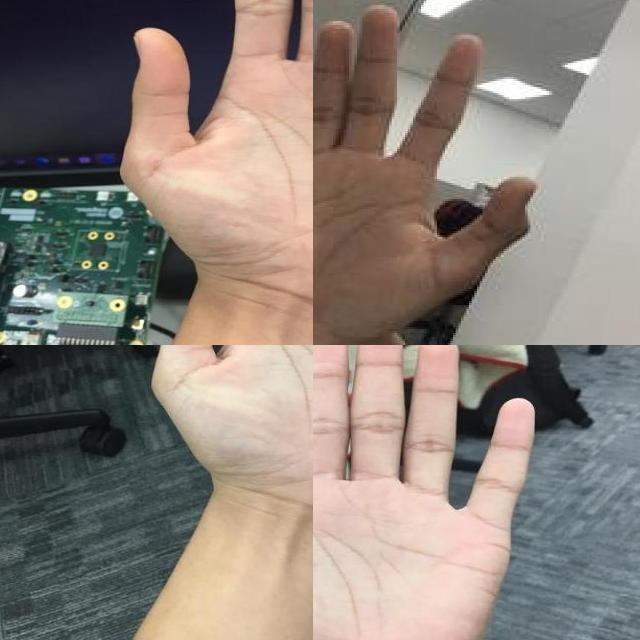no-gloves: (313, 3, 538, 343), (313, 345, 537, 640), (118, 0, 313, 322), (145, 345, 313, 547)
